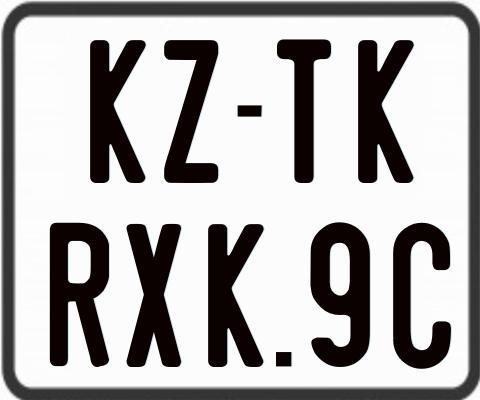9: (308, 220, 370, 368)
C: (391, 223, 450, 374)
K: (87, 39, 146, 185), (206, 221, 265, 365), (356, 37, 414, 180)
R: (49, 220, 114, 365)
T: (277, 37, 331, 186)
X: (126, 224, 185, 370)
Z: (162, 38, 222, 187)
